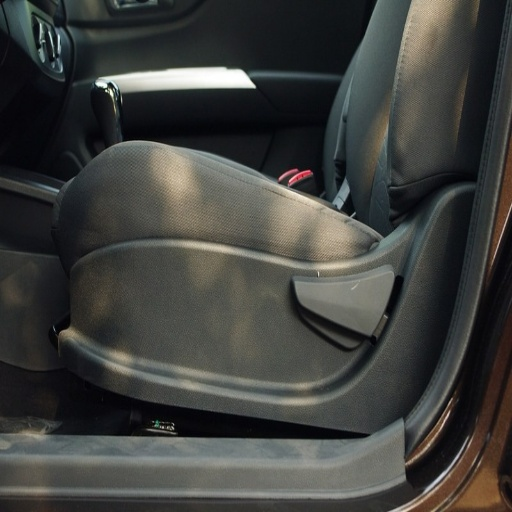_background_: (54, 498, 375, 511)
back_bumper: (2, 369, 323, 510), (296, 318, 419, 406)
tailgate: (240, 232, 395, 393)
